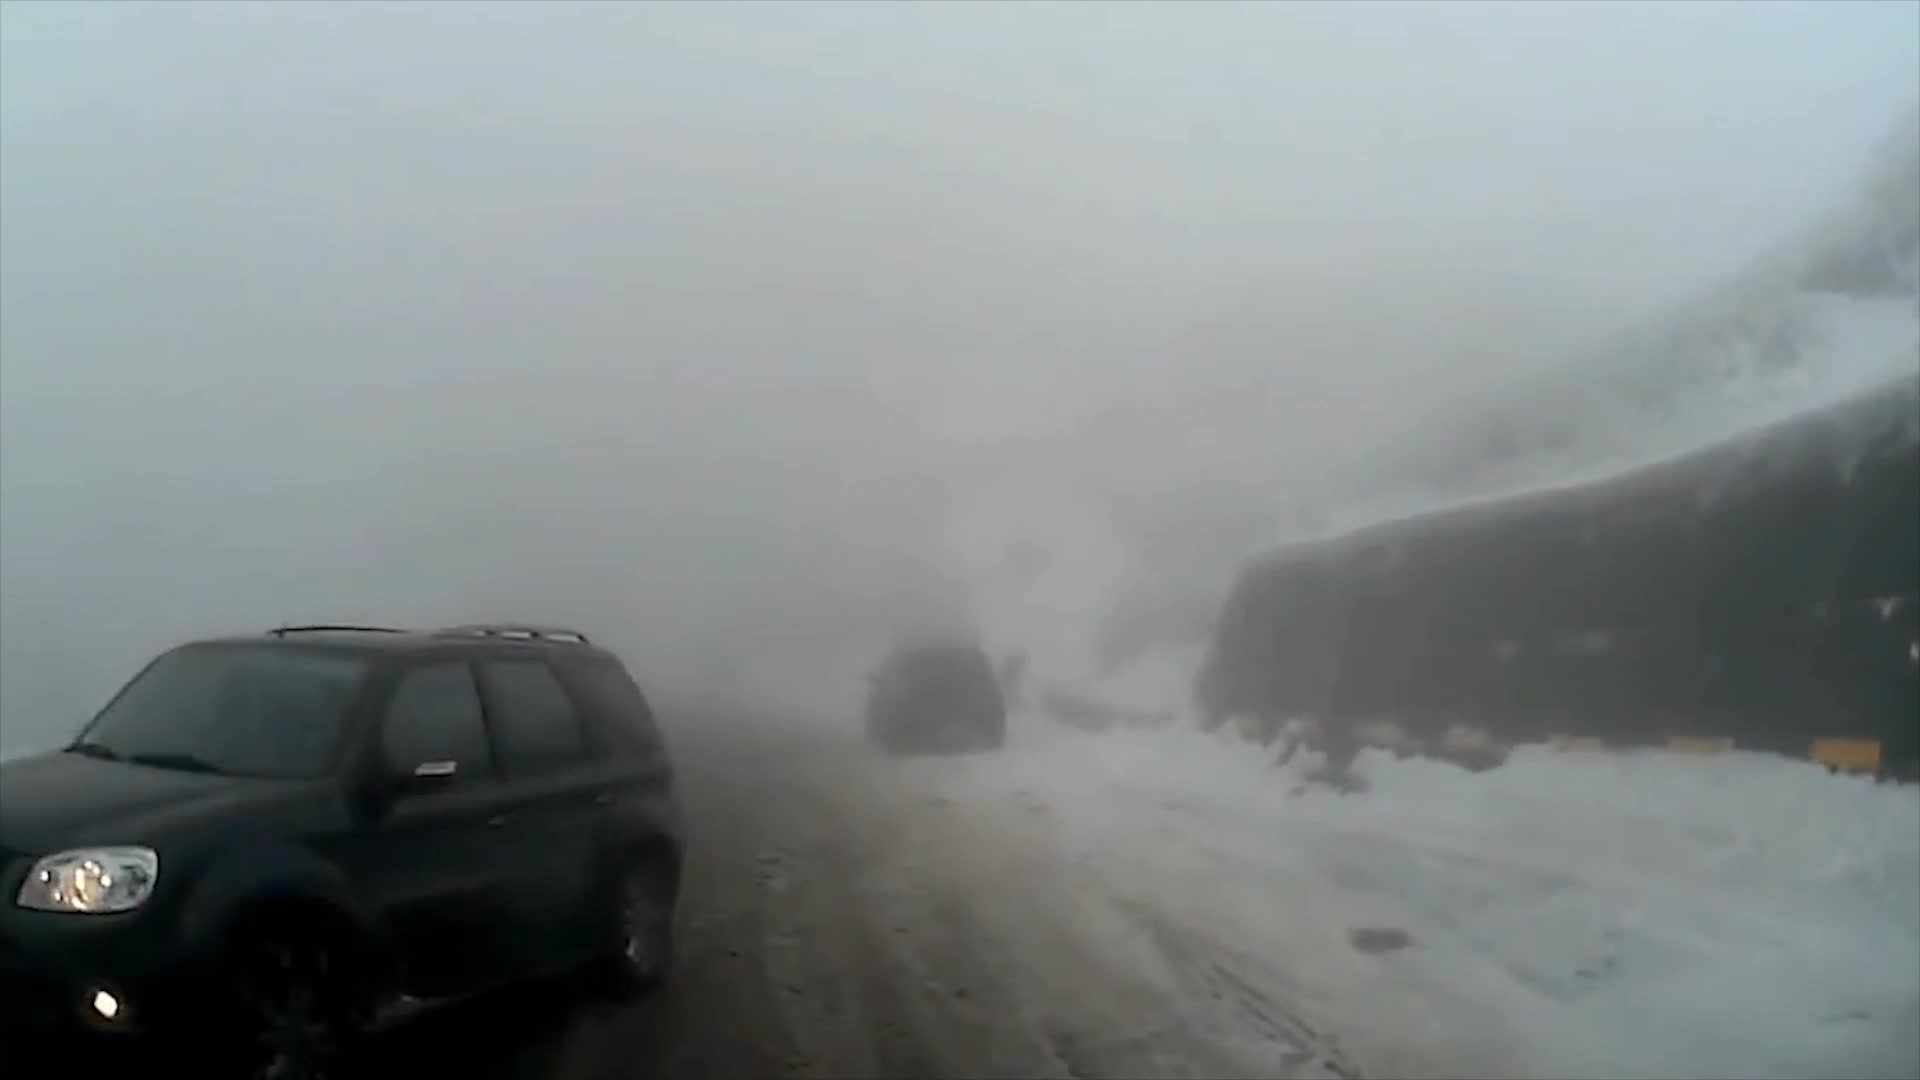vehicle: (0, 620, 684, 1076), (858, 632, 1004, 756)
